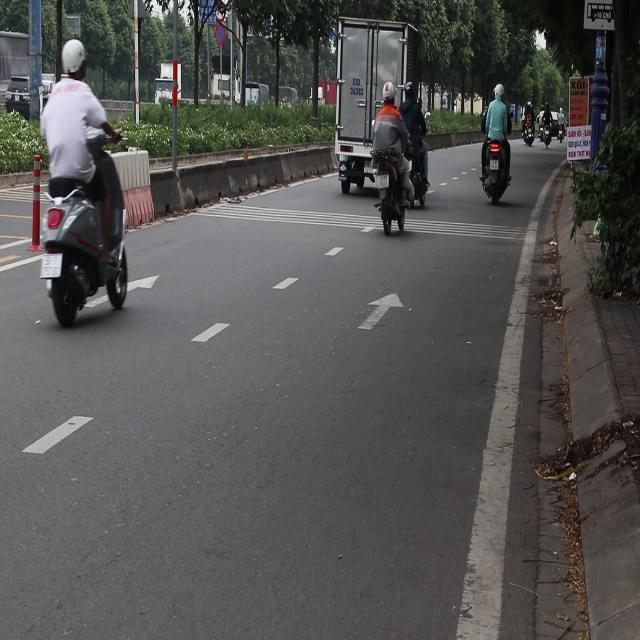motorbike: (38, 142, 130, 326), (373, 144, 417, 237), (479, 135, 513, 205), (521, 119, 534, 147), (545, 122, 553, 146)
truck: (325, 18, 421, 200), (0, 22, 55, 110), (148, 65, 199, 128)
